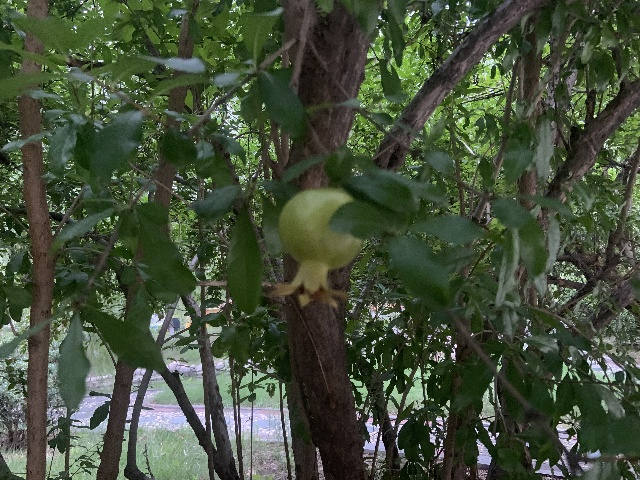mid-growth: (263, 187, 363, 311)
